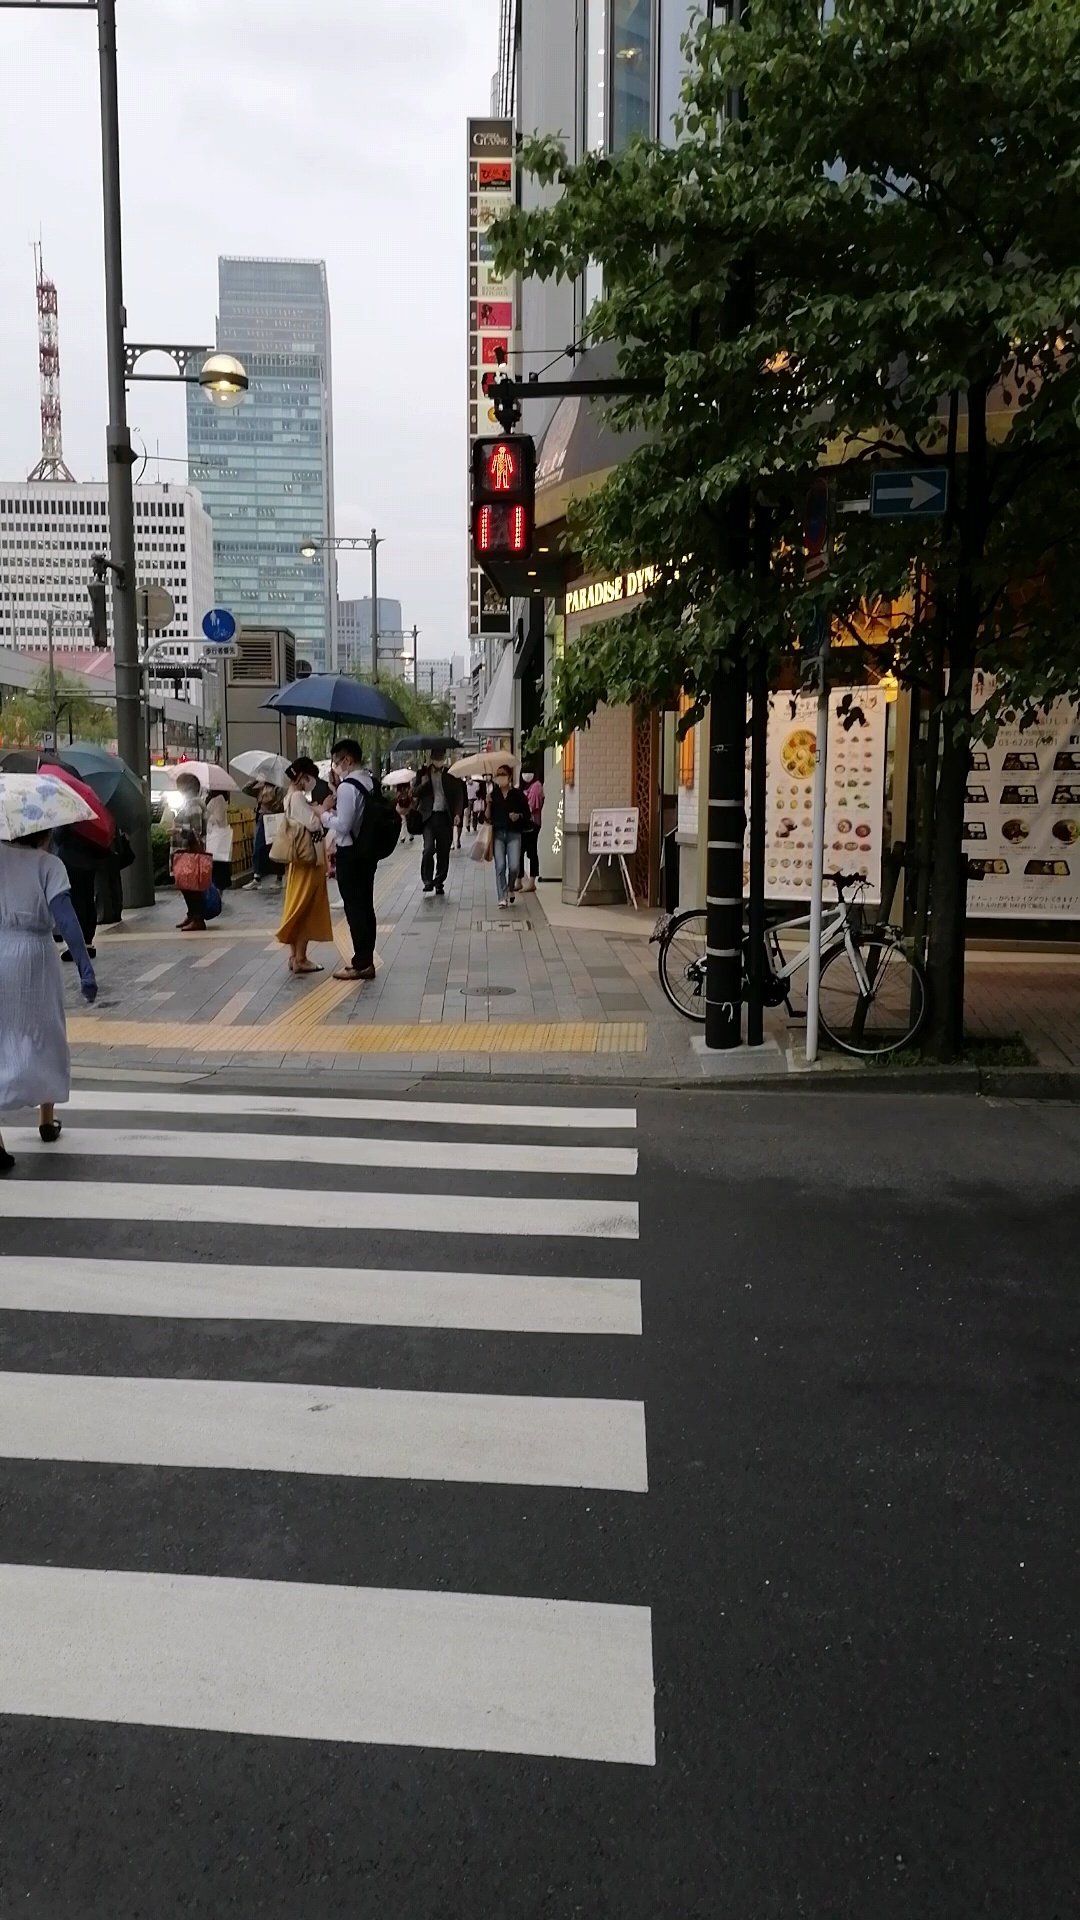red: (467, 436, 538, 558)
